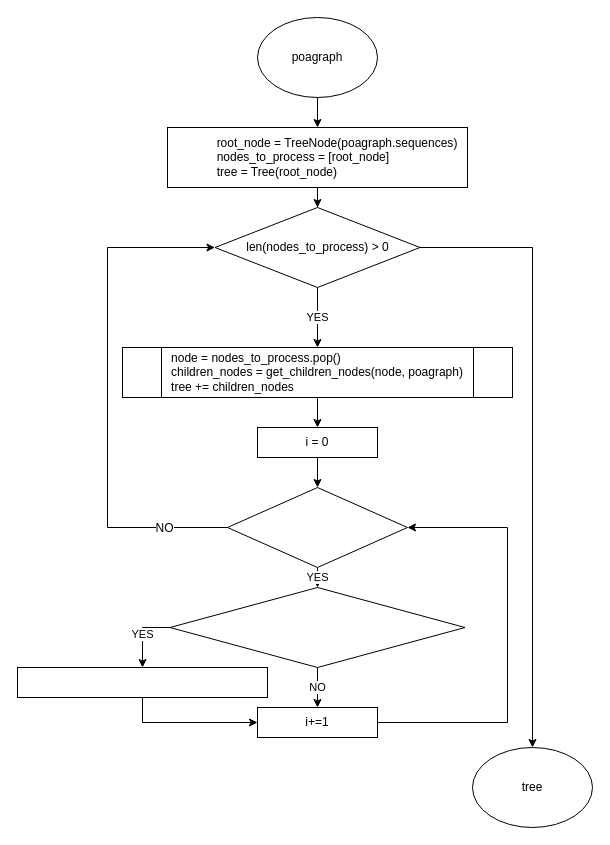
This 610x845 diagram has some shape labels left out. The box of each missing label's shape, as (x1, y1, x2, y2) in pixels:
children_nodes[i].min_compatibility < STOP**P: (169, 586, 465, 668)
i < len(children_nodes): (226, 486, 408, 568)
nodes_to_process += children_nodes[i]: (16, 666, 268, 698)
